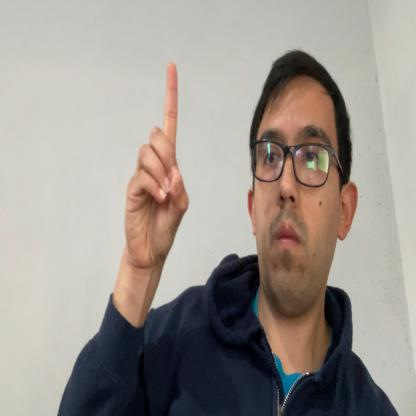D: (124, 61, 189, 267)
